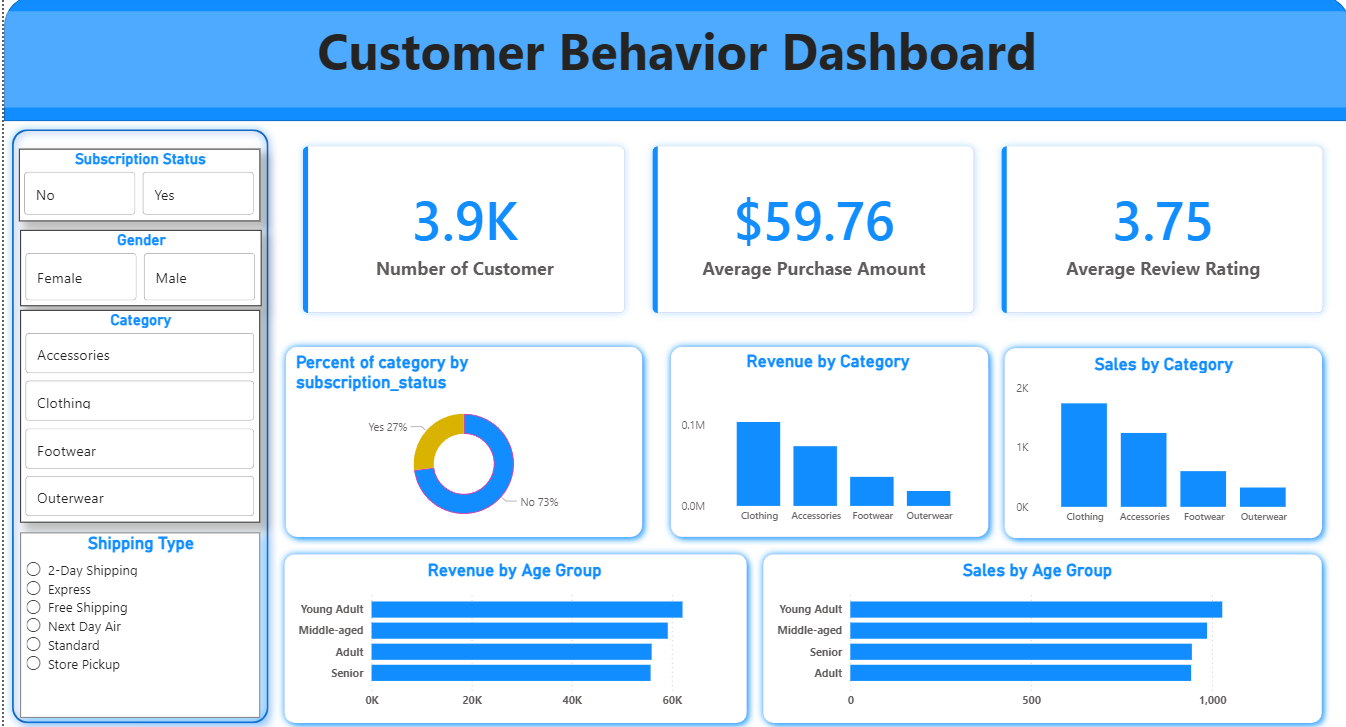

The page's visual inventory and layout, read from the dashboard file:
{"tool":"powerbi","page":{"name":"Page 1","canvas":[1500,820],"ordinal":0},"visuals":[{"type":"cardVisual","fields":{"Data":["customer_behavior customer.Number of Customer","customer_behavior customer.Average Purchase Amount","customer_behavior customer.Average Review Rating"]},"box":[305,140.7,1194.9,242.3],"z":0},{"type":"shape","box":[0,0,1499.9,140.7],"z":1000},{"type":"textbox","box":[0,18.1,1499.9,107.2],"z":2000},{"type":"shape","box":[305,383,415,229.8],"z":3000},{"type":"shape","box":[733.9,383,371.8,229.8],"z":4000},{"type":"shape","box":[1105.8,384.4,371.8,229.8],"z":5000},{"type":"donutChart","title":"Percent of category by subscription_status","fields":{"Category":["customer_behavior customer.subscription_status"],"Y":["CountNonNull(customer_behavior customer.category)"]},"box":[320.3,398.3,384.4,200.5],"z":6000},{"type":"clusteredColumnChart","title":"Revenue by Category","fields":{"Y":["Sum(customer_behavior customer.purchase_amount)"],"Category":["customer_behavior customer.category"]},"box":[749.3,397.5,337.7,200.5],"z":7000},{"type":"clusteredColumnChart","title":"Sales by Category","fields":{"Y":["CountNonNull(customer_behavior customer.customer_id)"],"Category":["customer_behavior customer.category"]},"box":[1122.2,399.3,339.5,198.8],"z":8000},{"type":"shape","box":[0,140.7,303.6,679.6],"z":9000},{"type":"advancedSlicerVisual","title":"Subscription Status","fields":{"Values":["customer_behavior customer.subscription_status"]},"box":[16.7,171.3,268.8,80.8],"z":10000},{"type":"advancedSlicerVisual","title":"Gender","fields":{"Values":["customer_behavior customer.gender"]},"box":[18.1,261.8,268.8,85],"z":11000},{"type":"advancedSlicerVisual","title":"Category","fields":{"Values":["customer_behavior customer.category"]},"box":[18.1,351,267.4,236.8],"z":12000},{"type":"listSlicer","title":"Shipping Type","fields":{"Values":["customer_behavior customer.shipping_type"]},"box":[18.1,598.8,267.4,206.1],"z":13000},{"type":"shape","box":[304.3,613.9,533,205.8],"z":14000},{"type":"clusteredBarChart","title":"Revenue by Age Group","fields":{"Y":["Sum(customer_behavior customer.purchase_amount)"],"Category":["customer_behavior customer.age_group"]},"box":[321.9,629.7,494.3,174.1],"z":15000},{"type":"shape","box":[837.2,613.9,640.2,205.8],"z":16000},{"type":"clusteredBarChart","title":"Sales by Age Group","fields":{"Y":["CountNonNull(customer_behavior customer.customer_id)"],"Category":["customer_behavior customer.age_group"]},"box":[854.8,629.7,592.8,174.1],"z":17000}]}

Visuals, with their boxes in screenshot pixels (x1, y1, x2, y2), scaled from the page's 1500x820 canvas onto the 1346x727 screenshot:
cardVisual - customer_behavior customer.Number of Customer x customer_behavior customer.Average Purchase Amount: x1=274 y1=125 x2=1345 y2=340
shape: x1=0 y1=0 x2=1345 y2=125
textbox: x1=0 y1=16 x2=1345 y2=111
shape: x1=274 y1=340 x2=646 y2=543
shape: x1=659 y1=340 x2=992 y2=543
shape: x1=992 y1=341 x2=1326 y2=545
"Percent of category by subscription_status" donutChart: x1=287 y1=353 x2=632 y2=531
"Revenue by Category" clusteredColumnChart: x1=672 y1=352 x2=975 y2=530
"Sales by Category" clusteredColumnChart: x1=1007 y1=354 x2=1312 y2=530
shape: x1=0 y1=125 x2=272 y2=726
"Subscription Status" advancedSlicerVisual: x1=15 y1=152 x2=256 y2=224
"Gender" advancedSlicerVisual: x1=16 y1=232 x2=257 y2=307
"Category" advancedSlicerVisual: x1=16 y1=311 x2=256 y2=521
"Shipping Type" listSlicer: x1=16 y1=531 x2=256 y2=714
shape: x1=273 y1=544 x2=751 y2=726
"Revenue by Age Group" clusteredBarChart: x1=289 y1=558 x2=732 y2=713
shape: x1=751 y1=544 x2=1326 y2=726
"Sales by Age Group" clusteredBarChart: x1=767 y1=558 x2=1299 y2=713
